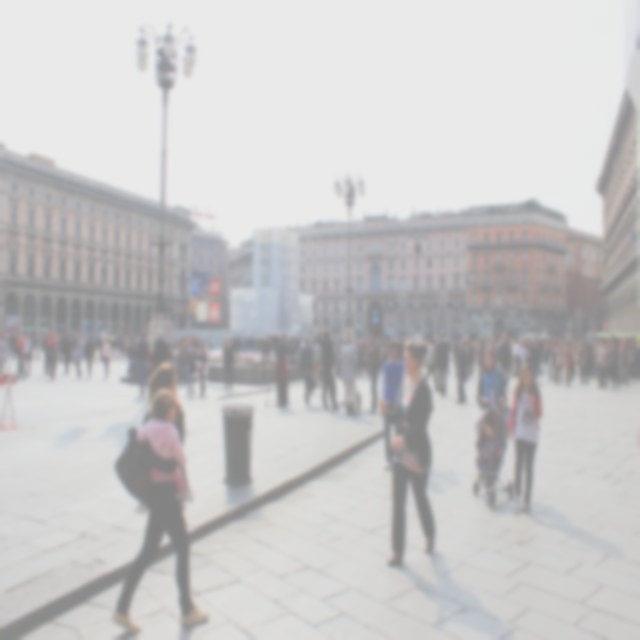pessoa: (108, 358, 212, 636), (379, 340, 438, 568), (394, 548, 487, 640), (132, 387, 187, 515), (508, 360, 542, 512), (380, 342, 408, 469), (476, 346, 508, 412), (337, 336, 363, 416), (316, 329, 341, 411), (301, 402, 375, 427), (268, 331, 290, 408), (320, 333, 340, 408), (295, 335, 316, 406), (476, 423, 504, 473), (366, 328, 382, 413), (340, 330, 357, 406), (136, 331, 152, 398), (498, 333, 514, 392), (434, 332, 448, 399), (425, 336, 441, 392), (189, 277, 210, 316), (13, 329, 28, 382), (486, 614, 517, 639), (454, 340, 466, 404), (608, 338, 622, 392), (152, 330, 170, 370), (508, 333, 544, 353), (184, 340, 197, 394), (597, 342, 611, 390), (222, 340, 235, 390), (552, 340, 566, 386), (196, 342, 208, 395), (60, 332, 74, 377), (174, 336, 186, 386), (83, 332, 96, 378), (626, 339, 639, 384), (233, 334, 262, 354), (618, 340, 630, 388), (562, 340, 574, 388), (41, 329, 53, 376), (172, 334, 202, 352), (584, 336, 596, 380), (22, 332, 33, 379), (463, 346, 479, 378), (50, 330, 60, 380), (288, 333, 319, 349), (588, 338, 626, 351), (579, 344, 591, 385), (569, 338, 580, 382), (101, 338, 112, 380), (308, 337, 316, 394), (377, 336, 417, 347), (597, 340, 606, 388), (548, 339, 558, 382), (47, 332, 61, 362), (360, 340, 370, 380), (476, 338, 486, 378), (463, 336, 502, 346), (508, 336, 517, 379), (314, 343, 322, 388), (274, 402, 298, 417), (577, 340, 585, 384), (526, 340, 536, 374), (74, 346, 84, 378), (514, 338, 522, 378), (353, 340, 361, 378), (453, 335, 460, 378), (588, 350, 598, 380), (380, 347, 390, 377), (146, 342, 154, 379), (488, 336, 498, 365), (542, 342, 550, 376), (167, 342, 177, 366), (10, 332, 18, 361), (520, 342, 530, 365), (185, 392, 208, 402), (444, 338, 450, 376), (396, 336, 404, 364), (34, 332, 41, 362), (78, 334, 85, 362), (265, 334, 272, 362), (132, 393, 148, 405), (113, 335, 120, 362), (288, 343, 296, 366), (132, 333, 148, 344), (260, 337, 267, 362), (124, 335, 130, 362), (109, 332, 132, 339), (353, 336, 373, 344), (108, 338, 115, 360), (610, 369, 620, 384), (554, 338, 569, 348), (80, 332, 98, 340), (536, 353, 542, 376), (637, 419, 640, 464), (366, 342, 372, 364), (183, 352, 188, 378), (230, 336, 237, 354), (72, 334, 76, 364), (128, 332, 134, 352), (60, 333, 64, 363), (192, 334, 198, 354), (294, 337, 300, 357), (30, 339, 36, 359), (452, 340, 456, 370), (421, 353, 428, 369), (6, 334, 10, 360), (83, 334, 87, 360), (336, 337, 344, 350), (22, 332, 36, 339), (92, 336, 96, 360), (121, 334, 125, 358), (130, 342, 138, 354), (223, 336, 229, 352), (119, 333, 124, 352), (8, 334, 12, 357), (222, 388, 236, 394), (2, 330, 7, 346), (209, 336, 214, 352), (286, 337, 290, 357), (56, 323, 66, 331), (308, 324, 318, 332), (222, 334, 230, 344), (93, 333, 97, 352), (40, 333, 44, 352), (74, 332, 80, 344), (290, 334, 295, 348), (398, 324, 408, 331), (99, 336, 102, 358), (334, 348, 337, 370), (533, 338, 538, 351), (100, 338, 105, 350), (335, 342, 340, 354), (330, 336, 335, 348), (56, 332, 61, 342), (434, 340, 439, 350), (263, 336, 267, 348), (548, 340, 552, 352), (449, 340, 452, 354), (208, 336, 211, 350), (110, 333, 114, 342), (203, 336, 207, 345), (57, 350, 60, 362), (388, 316, 392, 324), (426, 340, 430, 348), (454, 328, 457, 334), (70, 332, 72, 340), (64, 333, 66, 340), (168, 344, 170, 351), (44, 333, 48, 336), (448, 339, 450, 345), (584, 341, 586, 347), (484, 332, 486, 337), (11, 334, 13, 337)
